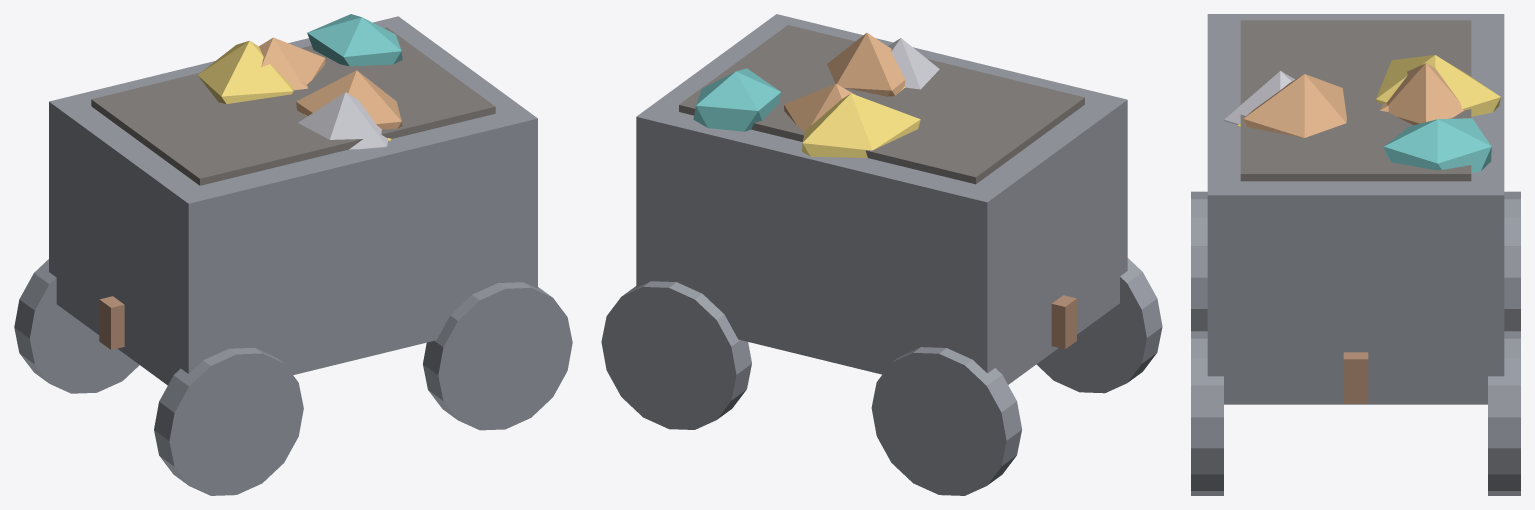
Rendered from ore_cart.glb.
3 views of the same model, side by side, from view 1: azimuth 30°, elevation 25°; view 2: azimuth 150°, elevation 25°; view 3: azimuth 270°, elevation 25° (orthographic). The views are drawn at different scales.
Parts seen in each view (by area): view 1: CartBody, CartInner, Wheel_-1.0_-0.9, Wheel_1.0_-0.9, Wheel_-1.0_0.9, Ore_3, Ore_2, Ore_5, Ore_4, Ore_0, CartBrace; view 2: CartBody, CartInner, Wheel_-1.0_0.9, Wheel_1.0_0.9, Wheel_-1.0_-0.9, Ore_3, Ore_2, Ore_4, Ore_0, Ore_5, CartBrace; view 3: CartBody, CartInner, Wheel_1.0_0.9, Wheel_1.0_-0.9, Ore_2, Ore_4, Ore_0, Ore_3, Wheel_-1.0_0.9, Wheel_-1.0_-0.9, CartBrace, Ore_5.
Boxes of the visible parts, x1,y1,x2,y2 form: CartBody: [49, 16, 537, 385]; CartInner: [91, 27, 495, 185]; Wheel_-1.0_-0.9: [154, 347, 303, 495]; Wheel_1.0_-0.9: [423, 282, 572, 430]; Wheel_-1.0_0.9: [14, 259, 139, 393]; Ore_3: [198, 40, 293, 104]; Ore_2: [307, 14, 402, 66]; Ore_5: [298, 92, 388, 149]; Ore_4: [296, 70, 402, 129]; Ore_0: [259, 37, 325, 87]; CartBrace: [99, 296, 124, 349]; CartBody: [636, 14, 1127, 384]; CartInner: [679, 25, 1084, 184]; Wheel_-1.0_0.9: [871, 347, 1021, 495]; Wheel_1.0_0.9: [601, 281, 751, 429]; Wheel_-1.0_-0.9: [1036, 258, 1162, 393]; Ore_3: [802, 93, 920, 157]; Ore_2: [693, 68, 781, 131]; Ore_4: [827, 33, 905, 96]; Ore_0: [784, 84, 855, 131]; Ore_5: [888, 38, 939, 89]; CartBrace: [1051, 295, 1076, 349]; CartBody: [1207, 14, 1504, 404]; CartInner: [1240, 20, 1471, 181]; Wheel_1.0_0.9: [1488, 331, 1520, 495]; Wheel_1.0_-0.9: [1191, 331, 1223, 495]; Ore_2: [1384, 118, 1491, 172]; Ore_4: [1243, 74, 1346, 137]; Ore_0: [1386, 63, 1464, 125]; Ore_3: [1375, 55, 1500, 116]; Wheel_-1.0_0.9: [1504, 191, 1520, 331]; Wheel_-1.0_-0.9: [1191, 191, 1207, 331]; CartBrace: [1343, 352, 1368, 403]; Ore_5: [1224, 71, 1294, 124].
Bounding box in the file's own units: 3 × 2.44 × 2.
